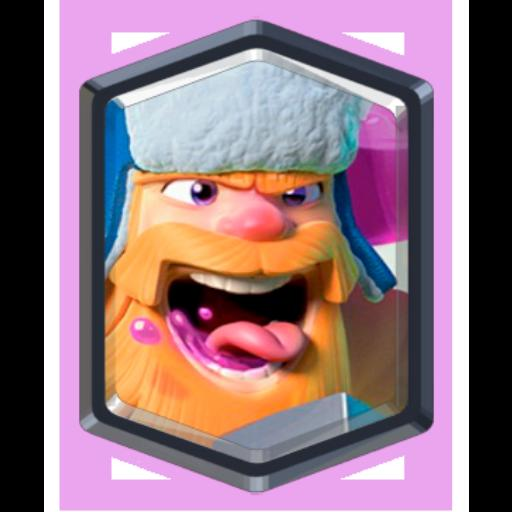lumberjack: (96, 64, 404, 456)
